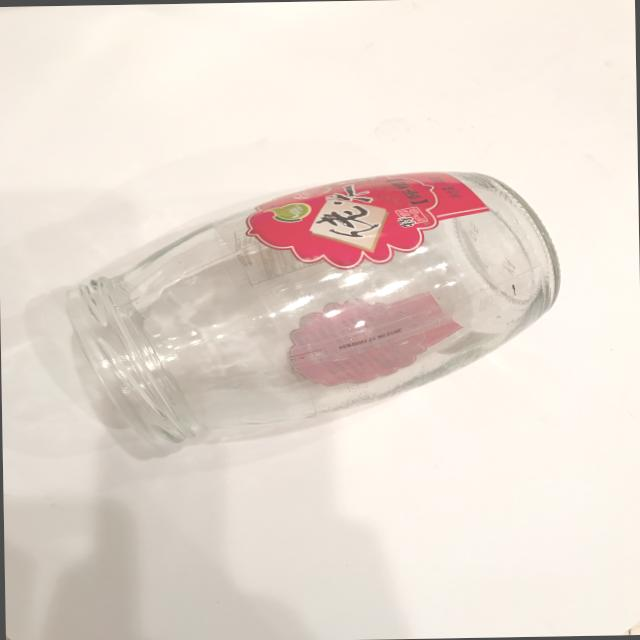Glass: (56, 152, 581, 462)
